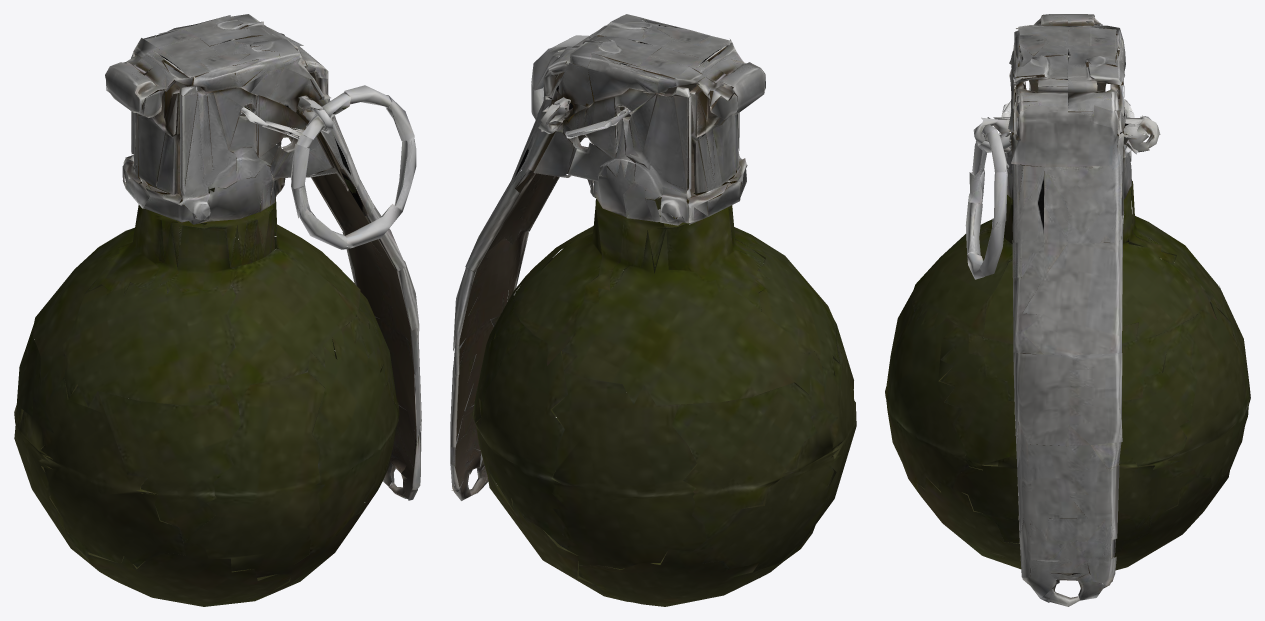
Rendered from frag.glb.
3 renders of one model, left to right at view 1: azimuth 30°, elevation 25°; view 2: azimuth 150°, elevation 25°; view 3: azimuth 270°, elevation 25°, orthographic. The views are drawn at different scales.
Parts seen in each view (by area): view 1: Grenade; view 2: Grenade; view 3: Grenade.
Boxes of the visible parts, x1,y1,x2,y2 form: Grenade: (14, 14, 421, 606); Grenade: (450, 14, 856, 606); Grenade: (885, 14, 1250, 606).
Bounding box in the file's own units: 0.24 × 0.3428 × 0.2176.
1 material, 1 textured.
